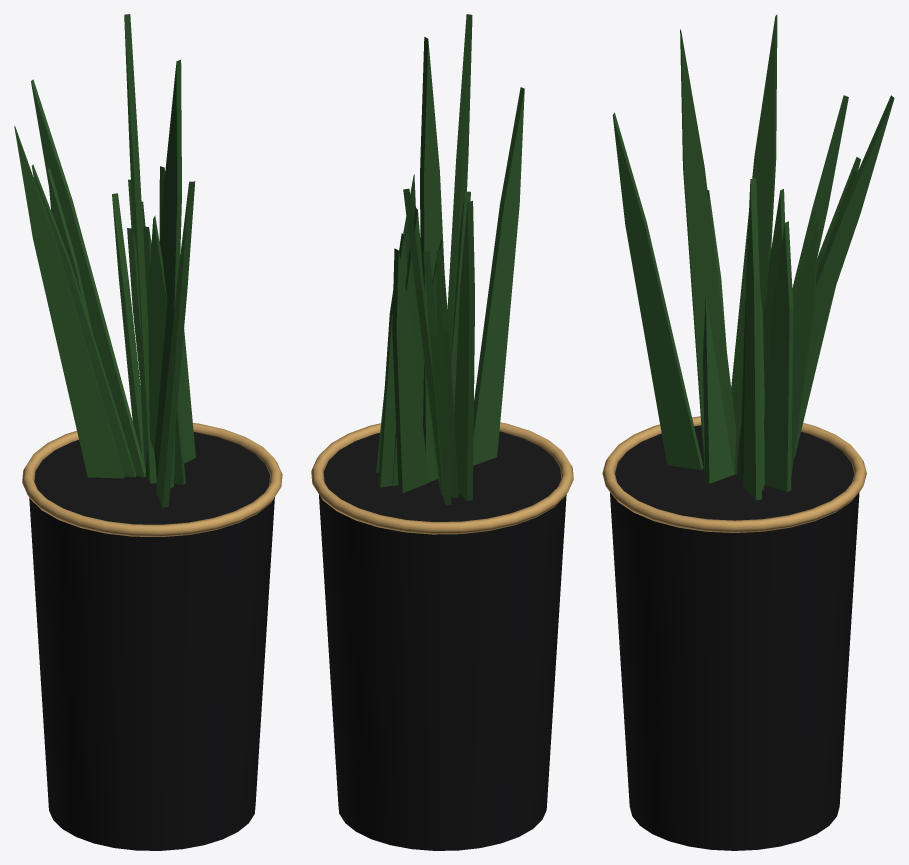
File: planter_tall.glb
3 renders of one model, left to right at view 1: azimuth 30°, elevation 25°; view 2: azimuth 150°, elevation 25°; view 3: azimuth 270°, elevation 25°, orthographic.
Parts seen in each view (by area): view 1: Mesh_Pot, Mesh_Blade9, Mesh_Rim, Mesh_Blade1, Mesh_Blade10, Mesh_Blade4, Mesh_Blade0, Mesh_Blade7, Mesh_Blade11, Mesh_Blade2, Mesh_Blade8, Mesh_Blade5 (+1 smaller); view 2: Mesh_Pot, Mesh_Blade0, Mesh_Rim, Mesh_Blade2, Mesh_Blade4, Mesh_Blade9, Mesh_Blade10, Mesh_Blade11, Mesh_Blade13, Mesh_Blade1, Mesh_Blade6, Mesh_Blade3 (+2 smaller); view 3: Mesh_Pot, Mesh_Blade0, Mesh_Blade10, Mesh_Blade13, Mesh_Blade4, Mesh_Rim, Mesh_Blade8, Mesh_Blade1, Mesh_Blade7, Mesh_Blade2, Mesh_Blade9, Mesh_Blade3 (+3 smaller).
Part boxes in pixels (left/top/right/bottom): Mesh_Pot: left=29, top=432, right=274, bottom=850; Mesh_Blade9: left=14, top=125, right=124, bottom=478; Mesh_Rim: left=22, top=423, right=282, bottom=537; Mesh_Blade1: left=31, top=79, right=145, bottom=477; Mesh_Blade10: left=145, top=59, right=181, bottom=488; Mesh_Blade4: left=124, top=14, right=156, bottom=483; Mesh_Blade0: left=156, top=181, right=195, bottom=507; Mesh_Blade7: left=147, top=215, right=185, bottom=484; Mesh_Blade11: left=31, top=164, right=136, bottom=477; Mesh_Blade2: left=112, top=193, right=144, bottom=464; Mesh_Blade8: left=159, top=166, right=195, bottom=463; Mesh_Blade5: left=127, top=228, right=145, bottom=431; Mesh_Pot: left=319, top=431, right=566, bottom=850; Mesh_Blade0: left=473, top=87, right=524, bottom=465; Mesh_Rim: left=311, top=422, right=573, bottom=534; Mesh_Blade2: left=392, top=248, right=428, bottom=492; Mesh_Blade4: left=420, top=37, right=444, bottom=481; Mesh_Blade9: left=454, top=200, right=474, bottom=500; Mesh_Blade10: left=447, top=14, right=472, bottom=416; Mesh_Blade11: left=436, top=249, right=458, bottom=497; Mesh_Blade13: left=378, top=233, right=407, bottom=487; Mesh_Blade1: left=403, top=188, right=442, bottom=494; Mesh_Blade6: left=423, top=251, right=451, bottom=505; Mesh_Blade3: left=392, top=207, right=424, bottom=485; Mesh_Pot: left=610, top=425, right=859, bottom=850; Mesh_Blade0: left=612, top=112, right=703, bottom=470; Mesh_Blade10: left=680, top=29, right=736, bottom=474; Mesh_Blade13: left=764, top=221, right=793, bottom=492; Mesh_Blade4: left=731, top=14, right=777, bottom=474; Mesh_Rim: left=602, top=416, right=866, bottom=532; Mesh_Blade8: left=743, top=178, right=761, bottom=500; Mesh_Blade1: left=805, top=95, right=894, bottom=375; Mesh_Blade7: left=703, top=190, right=733, bottom=483; Mesh_Blade2: left=791, top=218, right=819, bottom=476; Mesh_Blade9: left=792, top=95, right=848, bottom=299; Mesh_Blade3: left=763, top=189, right=785, bottom=410.
Size of the model in its own units: 0.504 by 1.66 by 0.5566.
